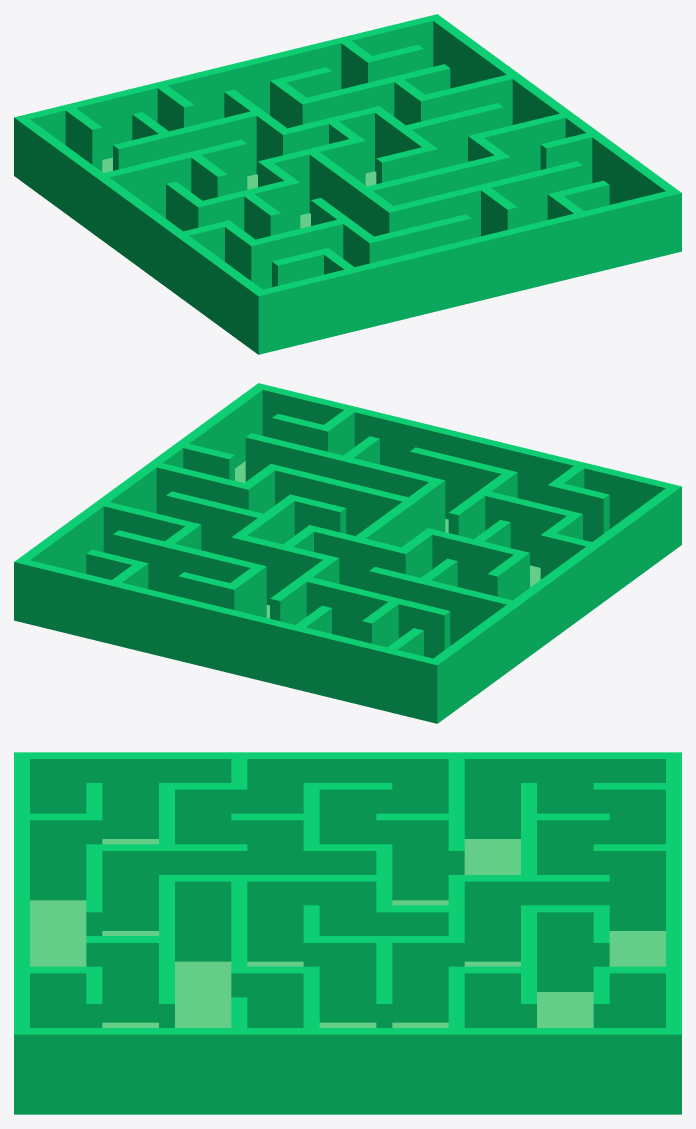
Rendered from Level13Ground.FBX.
3 views of the same model, one above another, from view 1: azimuth 30°, elevation 25°; view 2: azimuth 150°, elevation 25°; view 3: azimuth 270°, elevation 25° (orthographic). The views are drawn at different scales.
Visible parts, largest first — view 1: pPlane2; view 2: pPlane2; view 3: pPlane2.
Part boxes in pixels (x1=…): pPlane2: x1=14, y1=14, x2=681, y2=354; pPlane2: x1=14, y1=383, x2=681, y2=723; pPlane2: x1=14, y1=752, x2=681, y2=1114.
Size of the model in its own units: 212 by 28 by 212.
